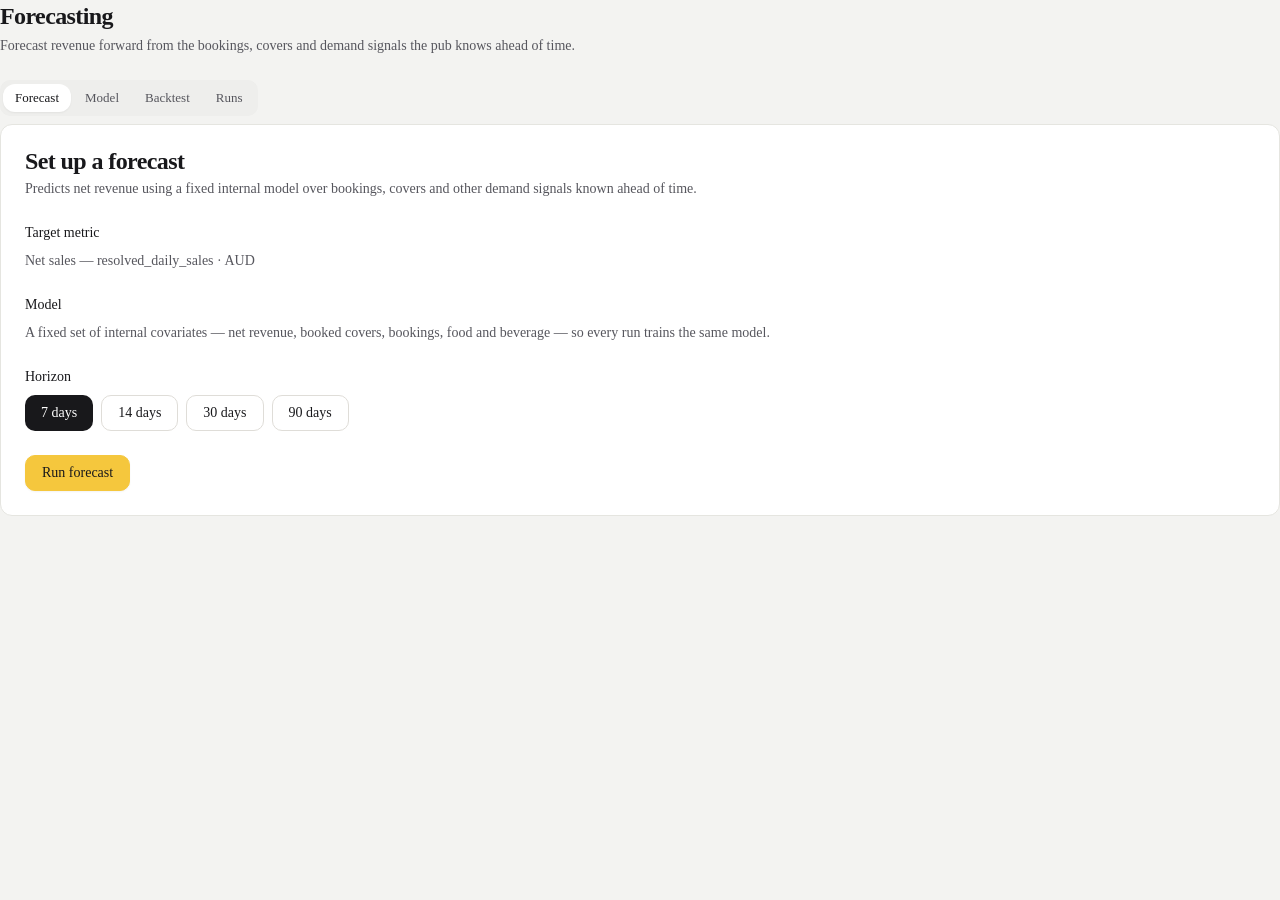
Test case: marks a failed poll as unknown and retries the same issued run without creating another
The width and height of the screenshot is (1280, 900).
Check: the text "Net sales — resolved_daily_sales · AUD" is shown, box top-left (25, 253), bottom-right (255, 268)
Click the button "Run forecast" at (78, 473), box top-left (25, 455), bottom-right (130, 491)
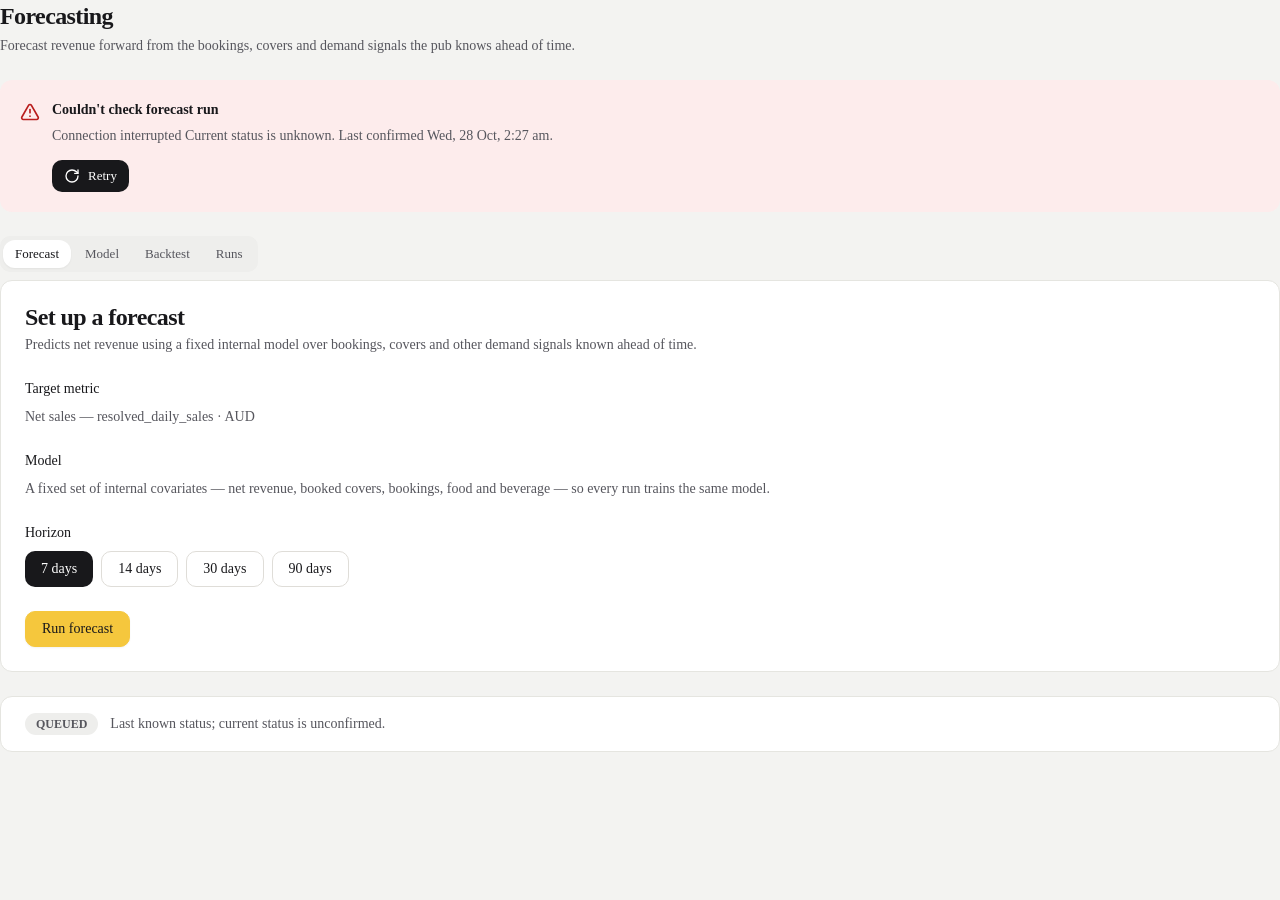
Check: the text "Current status is unknown" is shown, box top-left (52, 128), bottom-right (553, 143)
Check: the text "Last known status; current status is unconfirmed." is shown, box top-left (110, 714), bottom-right (385, 734)
Click the button "Retry" at (90, 176), box top-left (52, 160), bottom-right (129, 192)
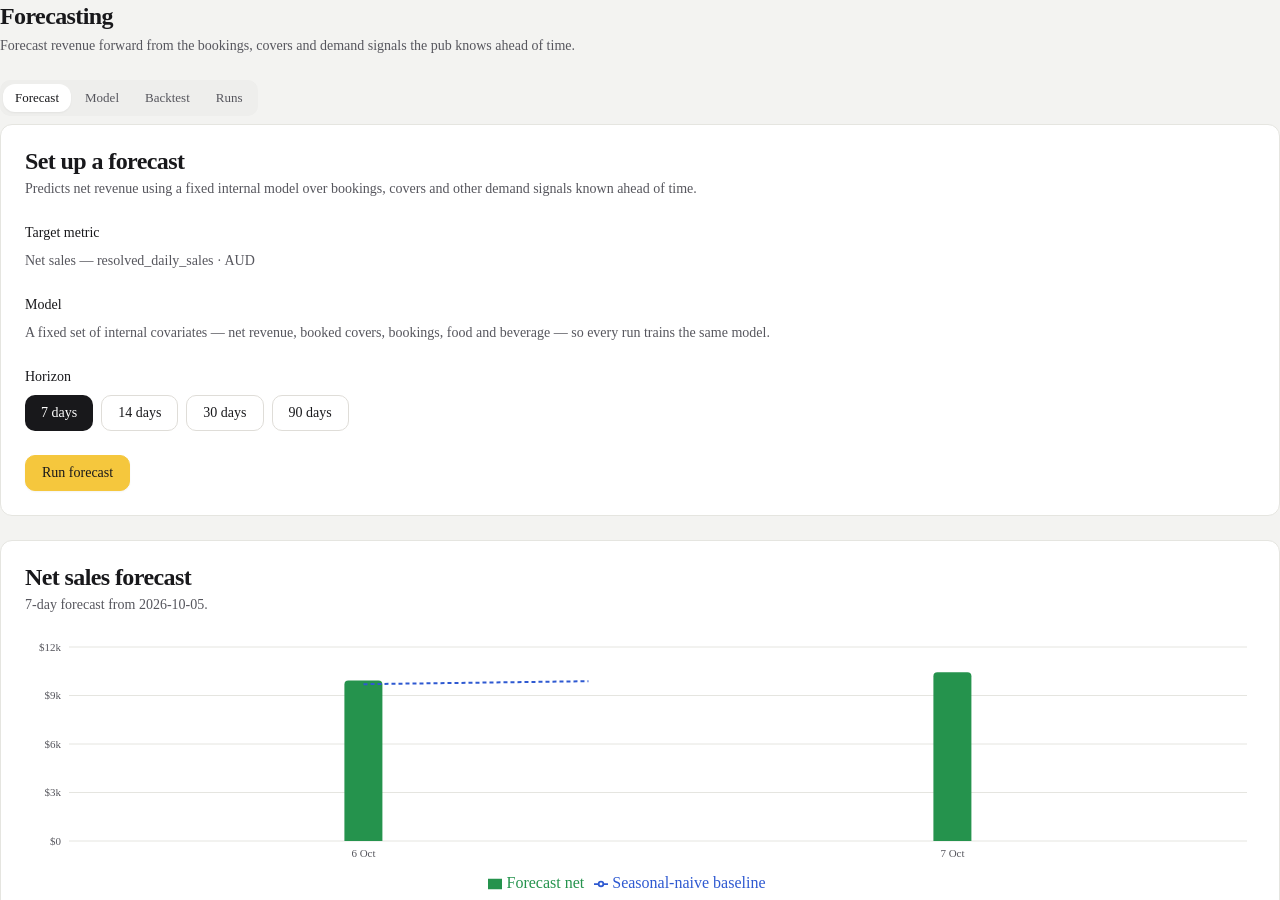
Check: the picture with test id "forecast-vs-baseline-chart" is shown, box top-left (25, 639), bottom-right (1255, 895)
Check: the text "Current status is unknown" is gone
